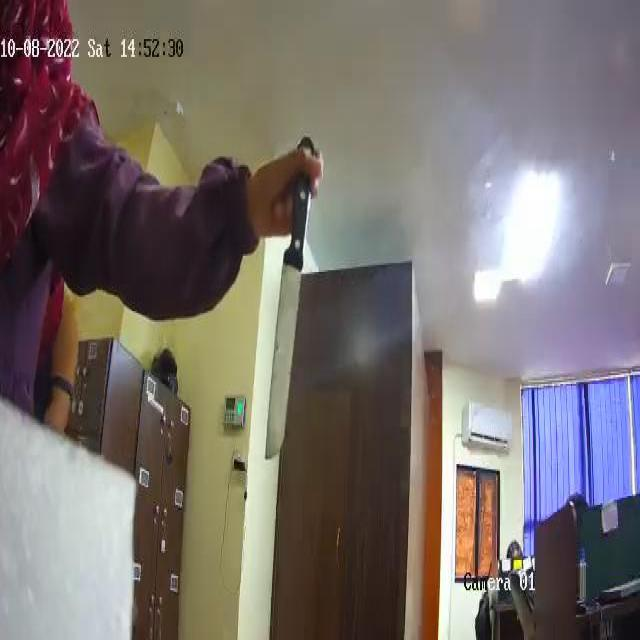weapon: (261, 132, 316, 468)
